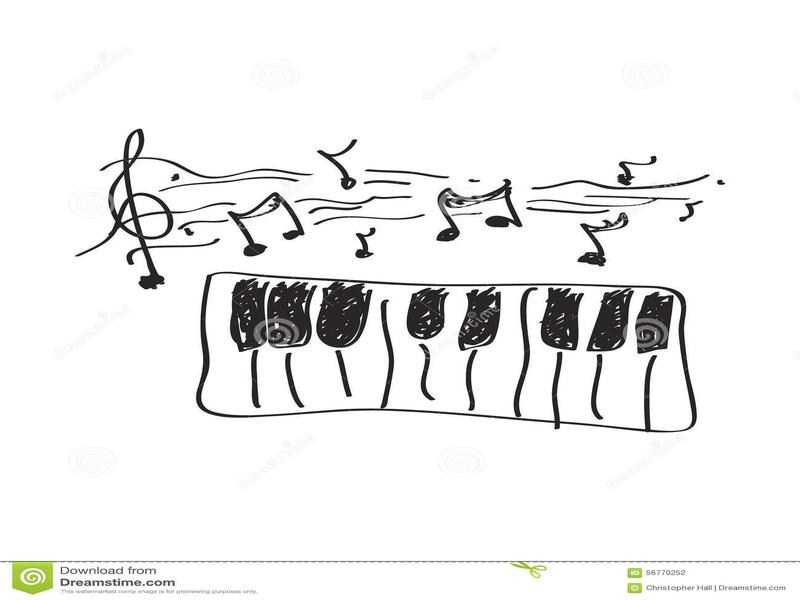piano: (195, 258, 708, 446)
